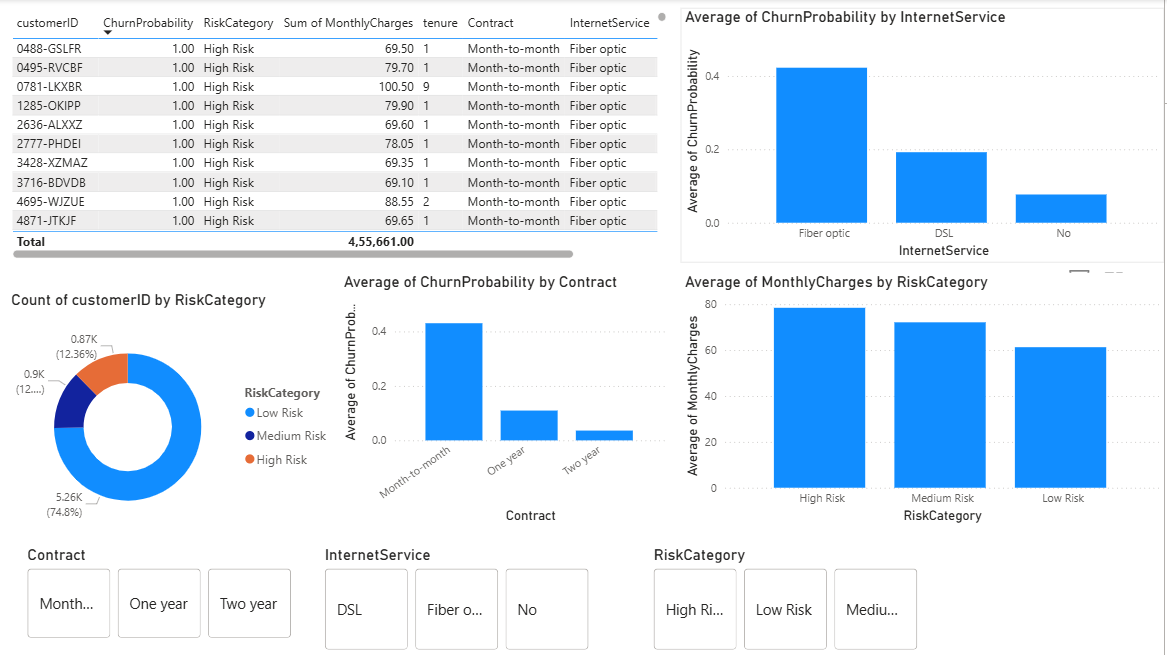

What the dashboard file says about the page in this screenshot:
{"tool":"powerbi","page":{"name":"Top Customers Likely to Churn","canvas":[1280,720],"ordinal":2},"visuals":[{"type":"tableEx","fields":{"Values":["powerbi_churn_data.customerID","powerbi_churn_data.ChurnProbability","powerbi_churn_data.RiskCategory","Sum(powerbi_churn_data.MonthlyCharges)","powerbi_churn_data.tenure","powerbi_churn_data.Contract","powerbi_churn_data.InternetService","powerbi_churn_data.ChurnProbability"]},"box":[9.6,9.6,728.6,279.9],"z":0},{"type":"donutChart","fields":{"Category":["powerbi_churn_data.RiskCategory"],"Y":["CountNonNull(powerbi_churn_data.customerID)"]},"box":[9.6,319.7,365,279.9],"z":1000},{"type":"clusteredColumnChart","fields":{"Category":["powerbi_churn_data.Contract"],"Y":["Avg(powerbi_churn_data.ChurnProbability)"]},"box":[375,301,364,280],"z":2000},{"type":"columnChart","fields":{"Category":["powerbi_churn_data.InternetService"],"Y":["Avg(powerbi_churn_data.ChurnProbability)"]},"box":[749,10,531,280],"z":3000},{"type":"clusteredColumnChart","fields":{"Category":["powerbi_churn_data.RiskCategory"],"Y":["Avg(powerbi_churn_data.MonthlyCharges)"]},"box":[749,301,531,280],"z":4000},{"type":"advancedSlicerVisual","fields":{"Values":["powerbi_churn_data.Contract"]},"box":[27.4,599.7,299.1,107],"z":5000},{"type":"advancedSlicerVisual","fields":{"Values":["powerbi_churn_data.InternetService"]},"box":[354,599.7,299.1,120.8],"z":6000},{"type":"advancedSlicerVisual","fields":{"Values":["powerbi_churn_data.RiskCategory"]},"box":[714.9,599.7,299.1,120.8],"z":7000}]}

Visuals, with their boxes in screenshot pixels (x1, y1, x2, y2), scaled from the page's 1280x720 canvas onto the 1167x655 screenshot:
tableEx - powerbi_churn_data.customerID x powerbi_churn_data.ChurnProbability: bbox(9, 9, 673, 263)
donutChart - powerbi_churn_data.RiskCategory x CountNonNull(powerbi_churn_data.customerID): bbox(9, 291, 342, 545)
clusteredColumnChart - powerbi_churn_data.Contract x Avg(powerbi_churn_data.ChurnProbability): bbox(342, 274, 674, 529)
columnChart - powerbi_churn_data.InternetService x Avg(powerbi_churn_data.ChurnProbability): bbox(683, 9, 1166, 264)
clusteredColumnChart - powerbi_churn_data.RiskCategory x Avg(powerbi_churn_data.MonthlyCharges): bbox(683, 274, 1166, 529)
advancedSlicerVisual - powerbi_churn_data.Contract: bbox(25, 546, 298, 643)
advancedSlicerVisual - powerbi_churn_data.InternetService: bbox(323, 546, 595, 654)
advancedSlicerVisual - powerbi_churn_data.RiskCategory: bbox(652, 546, 924, 654)
